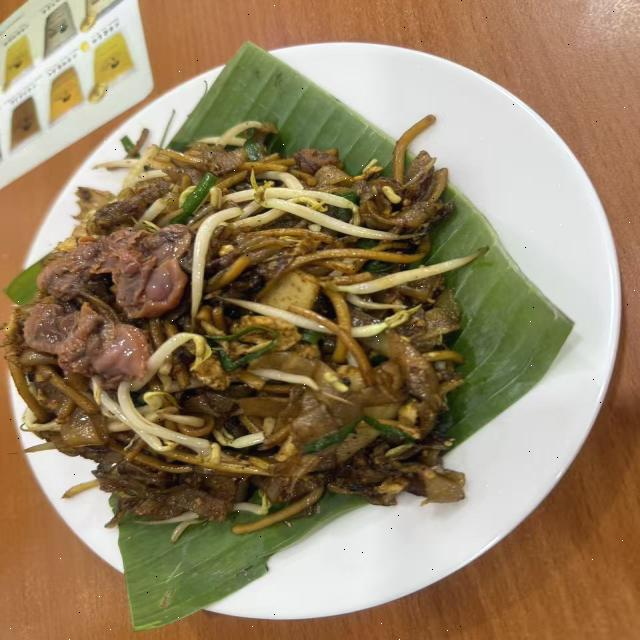Char Kway Teow: (14, 124, 554, 539)
